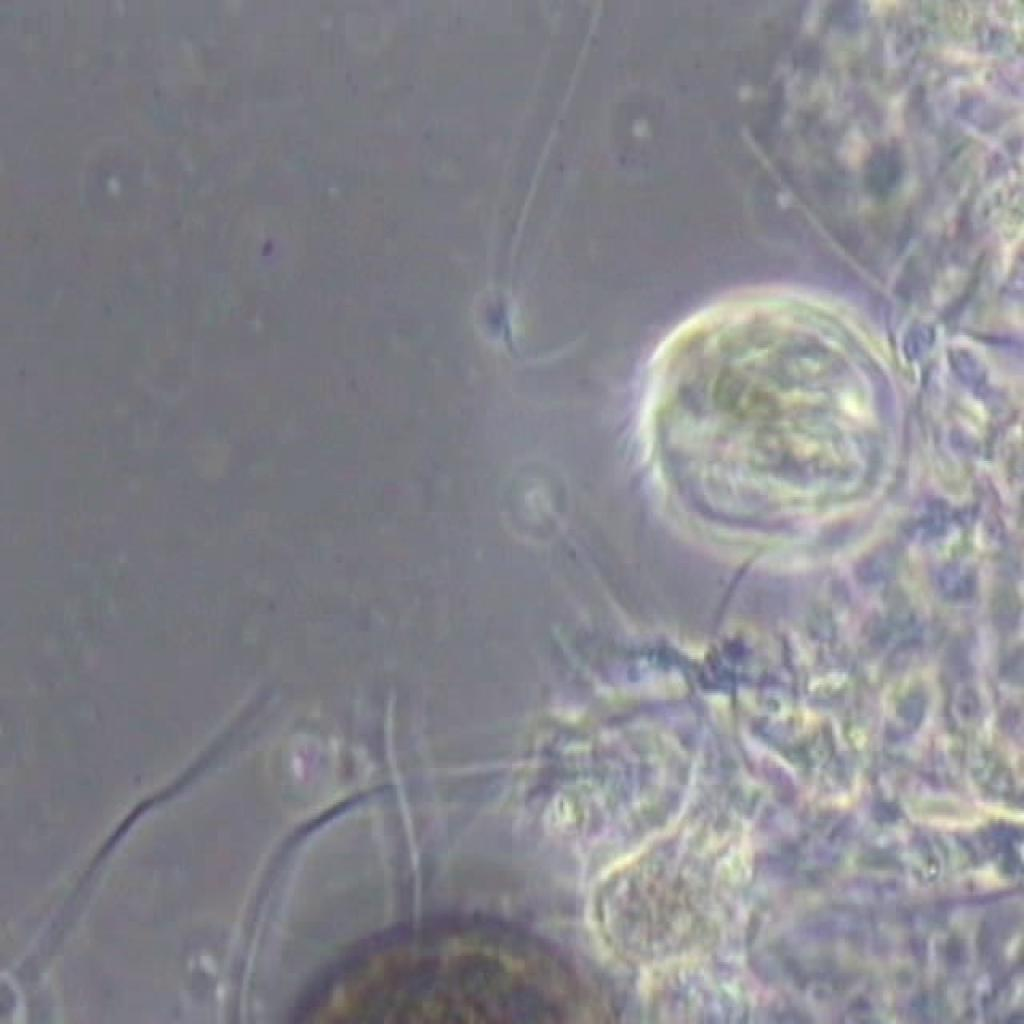Euplotes: (602, 280, 930, 584)
